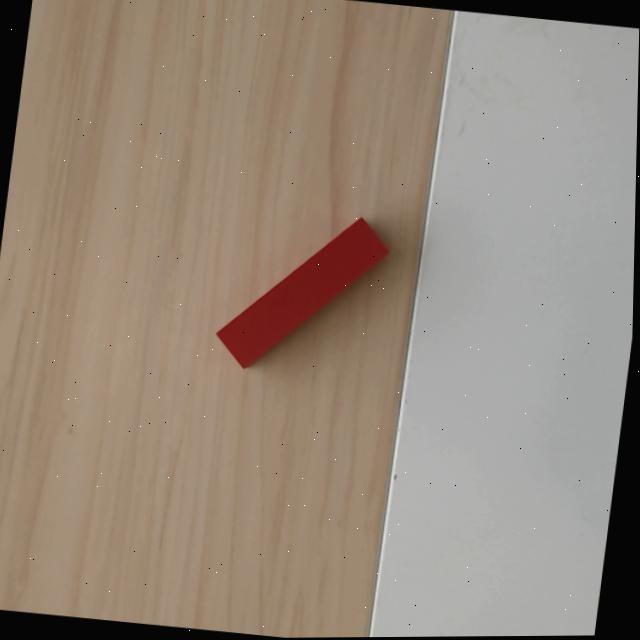Balok-Merah-1002525: (215, 215, 390, 369)
